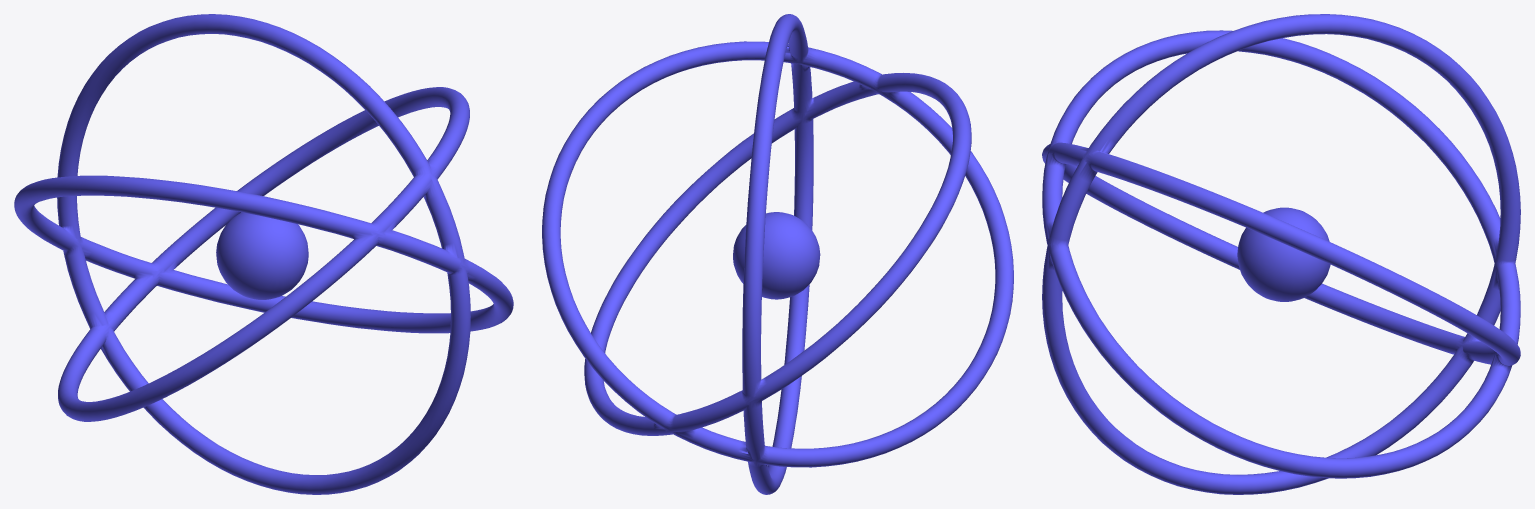
File: React-transformed.glb
3 views of the same model, side by side, from view 1: azimuth 30°, elevation 25°; view 2: azimuth 150°, elevation 25°; view 3: azimuth 270°, elevation 25° (orthographic). The views are drawn at different scales.
Visible parts, largest first — view 1: Torus.002, Sphere; view 2: Torus.002, Sphere; view 3: Torus.002, Sphere.
Part boxes in pixels (x1,y1,x2,y2): Torus.002: [14, 14, 513, 494]; Sphere: [216, 212, 308, 299]; Torus.002: [542, 14, 1013, 494]; Sphere: [733, 212, 820, 299]; Torus.002: [1042, 14, 1520, 494]; Sphere: [1237, 207, 1330, 301].
Bounding box in the file's own units: 0.4911 × 0.5512 × 0.5074.
